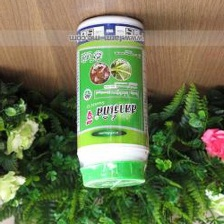insecticide: (71, 12, 151, 191)
